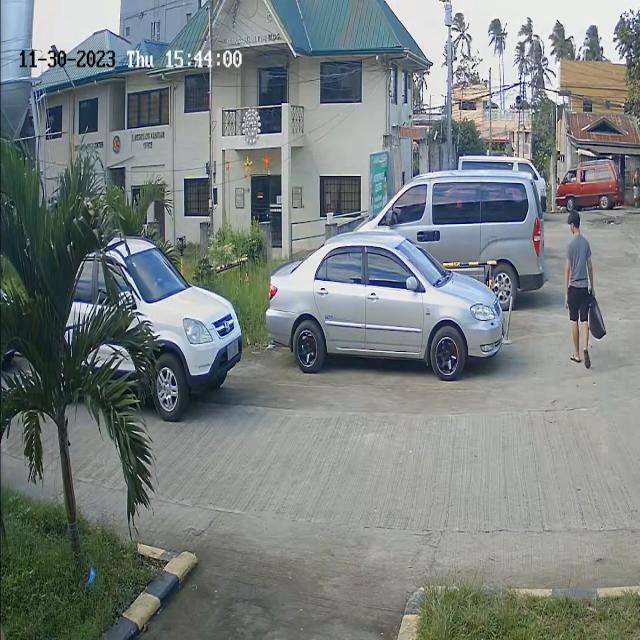garbage: (584, 282, 608, 344)
person: (563, 212, 591, 338)
